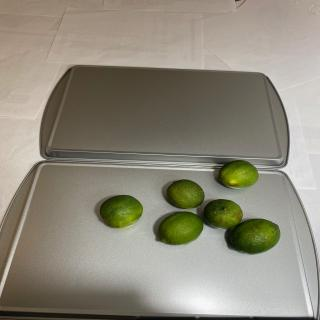Lemon: (229, 218, 281, 255), (158, 211, 204, 246), (99, 194, 143, 228), (203, 199, 243, 229), (218, 160, 259, 189), (166, 179, 205, 209)
